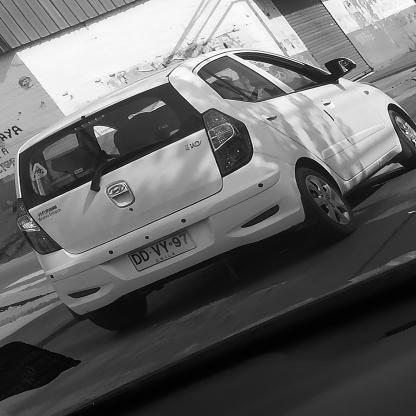Patente: (124, 229, 199, 275)
